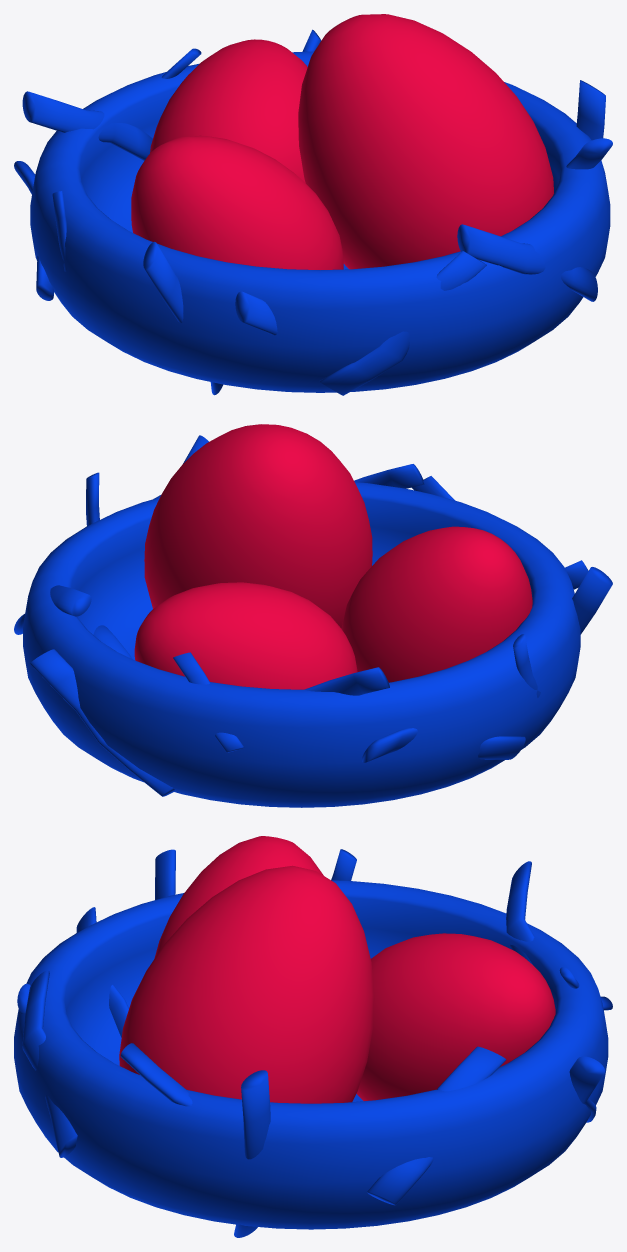
The model's file is Nest.fbx.
The picture shows the model from 3 angles, top to bottom: view 1: azimuth 30°, elevation 25°; view 2: azimuth 150°, elevation 25°; view 3: azimuth 270°, elevation 25°; orthographic projection. The views are drawn at different scales.
Visible parts, largest first — view 1: Nest; view 2: Nest; view 3: Nest.
Part boxes in pixels (x1=…): Nest: x1=14, y1=14, x2=612, y2=395; Nest: x1=14, y1=424, x2=612, y2=807; Nest: x1=14, y1=836, x2=612, y2=1237.
Bounding box in the file's own units: 1.08 × 0.6047 × 1.05.
